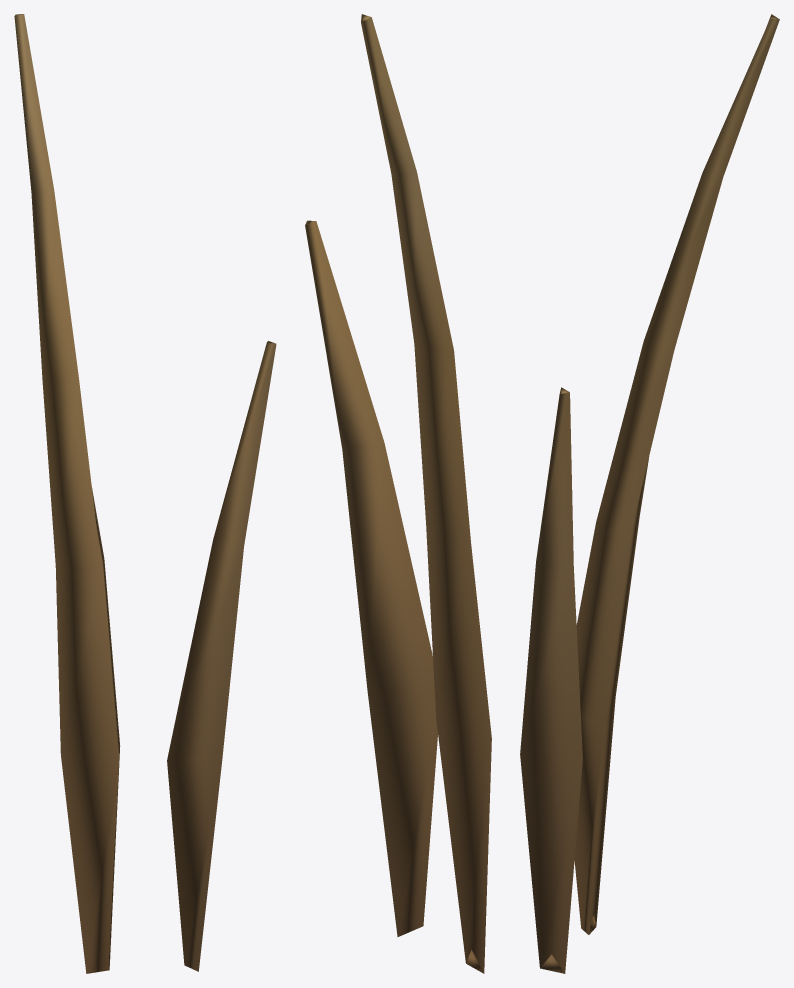
Rendered from trees-grasses-dry-grass-blades_v3.glb.
The picture shows the model from 3 angles, left to right: view 1: azimuth 30°, elevation 25°; view 2: azimuth 150°, elevation 25°; view 3: azimuth 270°, elevation 25°; orthographic projection. The views are drawn at different scales.
Parts seen in each view (by area): view 1: Dry Grass Blades_v3; view 2: Dry Grass Blades_v3; view 3: Dry Grass Blades_v3.
Boxes of the visible parts, <box> form: Dry Grass Blades_v3: <box>14,14,276,973</box>; Dry Grass Blades_v3: <box>305,14,491,973</box>; Dry Grass Blades_v3: <box>520,14,779,973</box>.
Bounding box in the file's own units: 0.1323 × 0.6 × 0.1534.
